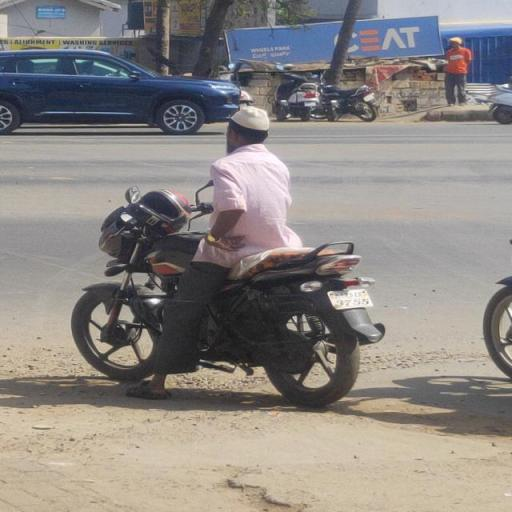bike: (72, 104, 398, 408)
withouthelmet: (226, 108, 268, 142)
